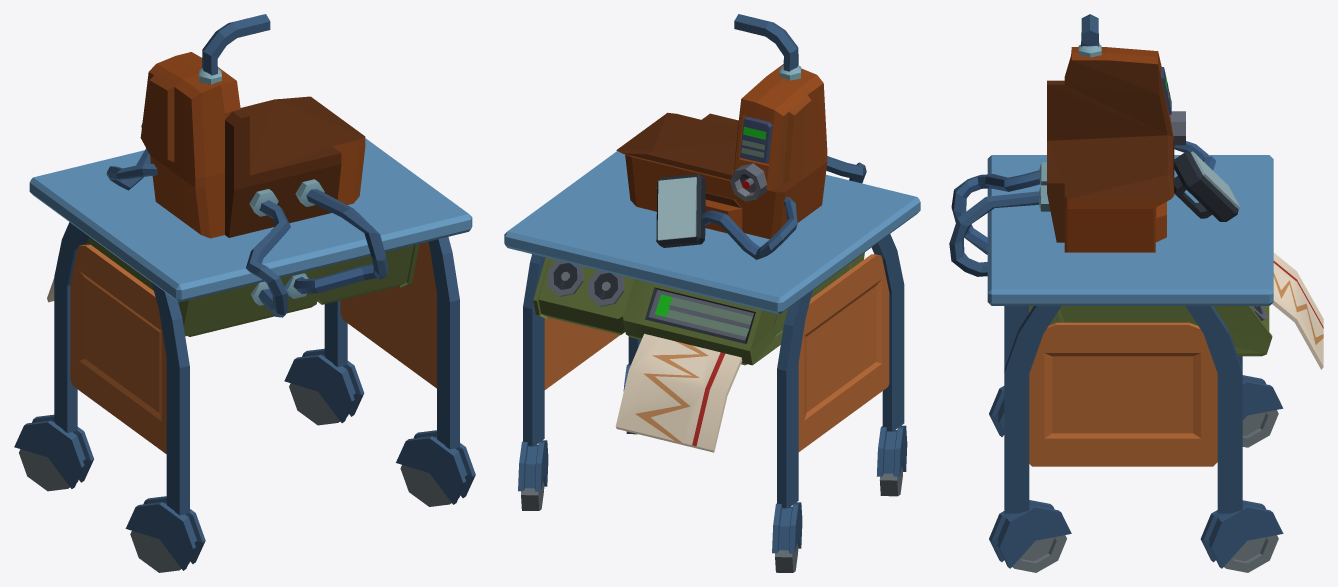
File: g_o_Heart_AttackTreatmentStation_broken.fbx
The picture shows the model from 3 angles, left to right: view 1: azimuth 30°, elevation 25°; view 2: azimuth 150°, elevation 25°; view 3: azimuth 270°, elevation 25°; orthographic projection. The views are drawn at different scales.
Parts seen in each view (by area): view 1: g_o_Heart_AttackTreatmentStation_broken; view 2: g_o_Heart_AttackTreatmentStation_broken; view 3: g_o_Heart_AttackTreatmentStation_broken.
Part boxes in pixels (left/top/right/bottom): g_o_Heart_AttackTreatmentStation_broken: left=14, top=14, right=475, bottom=572; g_o_Heart_AttackTreatmentStation_broken: left=504, top=14, right=920, bottom=572; g_o_Heart_AttackTreatmentStation_broken: left=949, top=14, right=1323, bottom=572.
Size of the model in its own units: 70.58 by 106 by 75.78.
